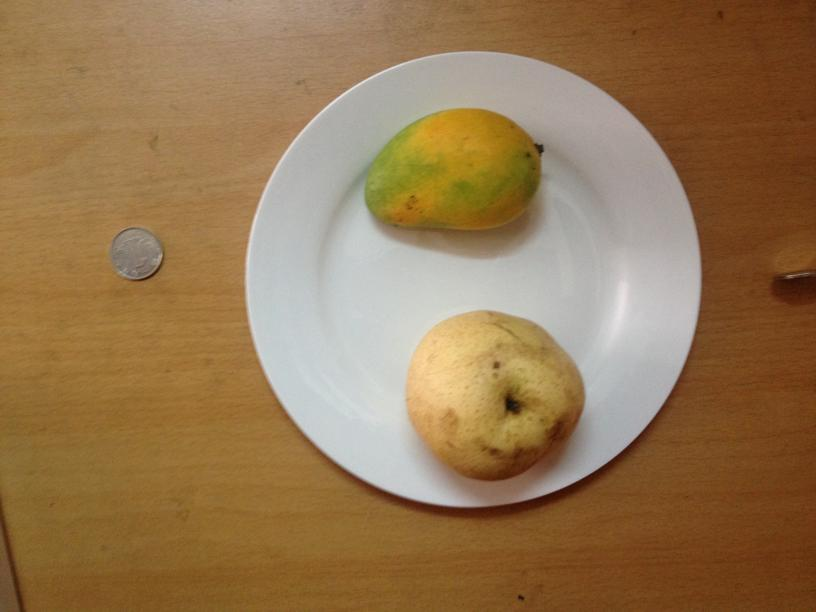coin: (110, 224, 164, 281)
mango: (366, 110, 537, 230)
pear: (408, 311, 585, 481)
